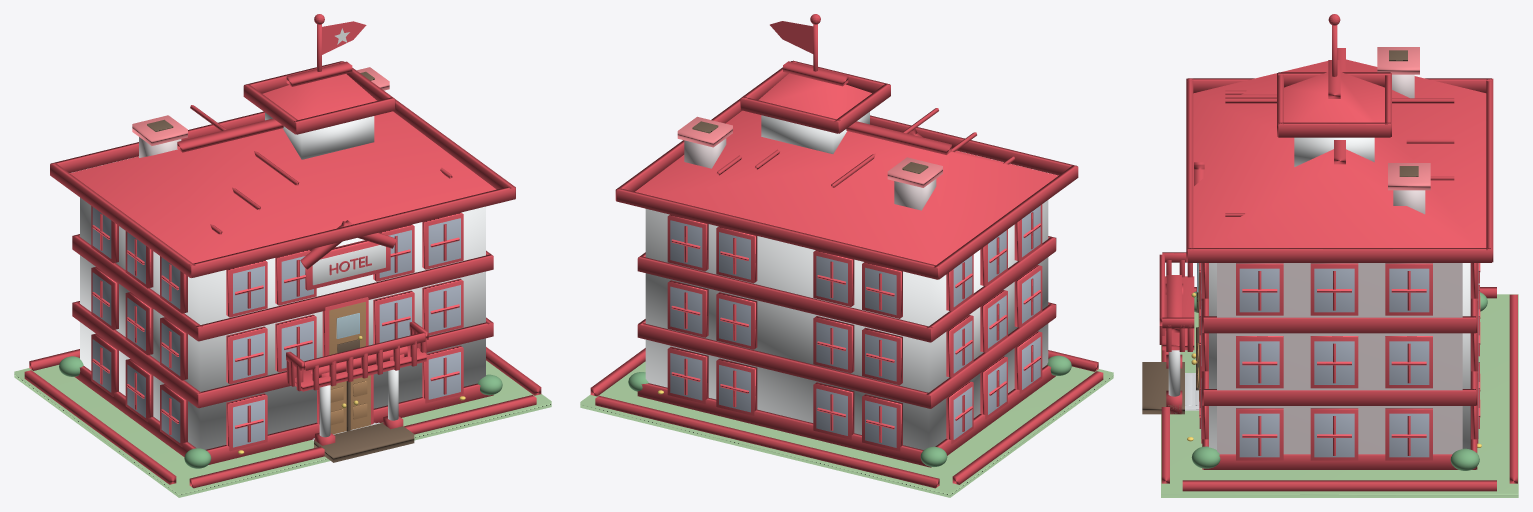
File: hotel_detallado_red.glb
3 views of the same model, side by side, from view 1: azimuth 30°, elevation 25°; view 2: azimuth 150°, elevation 25°; view 3: azimuth 270°, elevation 25° (orthographic). The views are drawn at different scales.
Visible parts, largest first — view 1: Hotel_Techo_Principal, Hotel_Cuerpo_Principal, Hotel_Grama_Base, Hotel_Techo_Principal_Fascia_Frontal, Hotel_Zocalo_Frontal_Nivel_3, Hotel_Torre_Central_Techo, Hotel_Zocalo_Frontal_Nivel_1, Hotel_Zocalo_Frontal_Nivel_2, Hotel_Techo_Principal_Fascia_Izquierda, Hotel_Torre_Central_Pared, Hotel_Entrada_Escalon, Hotel_Zocalo_Izquierdo_Nivel_3 (+57 smaller); view 2: Hotel_Techo_Principal, Hotel_Cuerpo_Principal, Hotel_Grama_Base, Hotel_Zocalo_Trasero_Nivel_3, Hotel_Zocalo_Trasero_Nivel_2, Hotel_Techo_Principal_Fascia_Trasera, Hotel_Borde_Base_Trasero, Hotel_Zocalo_Trasero_Nivel_1, Hotel_Torre_Central_Techo, Hotel_Techo_Principal_Fascia_Izquierda, Hotel_Techo_Principal_Fascia_Frontal, Hotel_Zocalo_Izquierdo_Nivel_3 (+54 smaller); view 3: Hotel_Techo_Principal, Hotel_Pared_Lateral_Azulada, Hotel_Grama_Base, Hotel_Zocalo_Derecho_Nivel_3, Hotel_Techo_Principal_Fascia_Derecha, Hotel_Zocalo_Derecho_Nivel_2, Hotel_Torre_Central_Techo, Hotel_Borde_Base_Lateral_Derecho, Hotel_Zocalo_Derecho_Nivel_1, Hotel_Cuerpo_Principal, Hotel_Torre_Central_Techo_Fascia_Derecha, Hotel_Borde_Base_Trasero (+38 smaller).
Part boxes in pixels (<box>): Hotel_Techo_Principal: <box>70,111,496,263</box>; Hotel_Cuerpo_Principal: <box>80,197,485,449</box>; Hotel_Grama_Base: <box>14,360,551,497</box>; Hotel_Techo_Principal_Fascia_Frontal: <box>189,187,515,277</box>; Hotel_Zocalo_Frontal_Nivel_3: <box>196,254,493,341</box>; Hotel_Torre_Central_Techo: <box>262,74,376,119</box>; Hotel_Zocalo_Frontal_Nivel_1: <box>206,383,493,464</box>; Hotel_Zocalo_Frontal_Nivel_2: <box>197,321,493,408</box>; Hotel_Techo_Principal_Fascia_Izquierda: <box>50,163,195,277</box>; Hotel_Torre_Central_Pared: <box>265,112,374,159</box>; Hotel_Entrada_Escalon: <box>314,423,414,462</box>; Hotel_Zocalo_Izquierdo_Nivel_3: <box>72,235,202,340</box>; Hotel_Techo_Principal: <box>635,110,1058,265</box>; Hotel_Cuerpo_Principal: <box>645,200,1048,449</box>; Hotel_Grama_Base: <box>580,361,1113,497</box>; Hotel_Zocalo_Trasero_Nivel_3: <box>637,256,932,342</box>; Hotel_Zocalo_Trasero_Nivel_2: <box>637,323,930,408</box>; Hotel_Techo_Principal_Fascia_Trasera: <box>616,188,937,279</box>; Hotel_Borde_Base_Trasero: <box>595,395,939,488</box>; Hotel_Zocalo_Trasero_Nivel_1: <box>637,383,930,467</box>; Hotel_Torre_Central_Techo: <box>758,73,871,119</box>; Hotel_Techo_Principal_Fascia_Izquierda: <box>934,165,1078,279</box>; Hotel_Techo_Principal_Fascia_Frontal: <box>870,115,1077,175</box>; Hotel_Zocalo_Izquierdo_Nivel_3: <box>927,237,1055,342</box>; Hotel_Techo_Principal: <box>1193,59,1486,247</box>; Hotel_Pared_Lateral_Azulada: <box>1217,263,1462,454</box>; Hotel_Grama_Base: <box>1161,294,1518,497</box>; Hotel_Zocalo_Derecho_Nivel_3: <box>1203,316,1475,333</box>; Hotel_Techo_Principal_Fascia_Derecha: <box>1187,248,1491,262</box>; Hotel_Zocalo_Derecho_Nivel_2: <box>1203,389,1475,405</box>; Hotel_Torre_Central_Techo: <box>1284,72,1384,122</box>; Hotel_Borde_Base_Lateral_Derecho: <box>1182,480,1496,491</box>; Hotel_Zocalo_Derecho_Nivel_1: <box>1203,454,1475,469</box>; Hotel_Cuerpo_Principal: <box>1209,263,1470,449</box>; Hotel_Torre_Central_Techo_Fascia_Derecha: <box>1278,122,1390,137</box>; Hotel_Borde_Base_Trasero: <box>1509,294,1517,483</box>.
Bounding box in the file's own units: 1.75 × 1.67 × 1.41.
